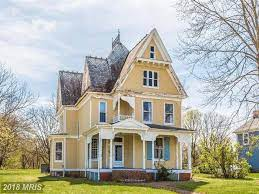Building House: (48, 30, 196, 177)
